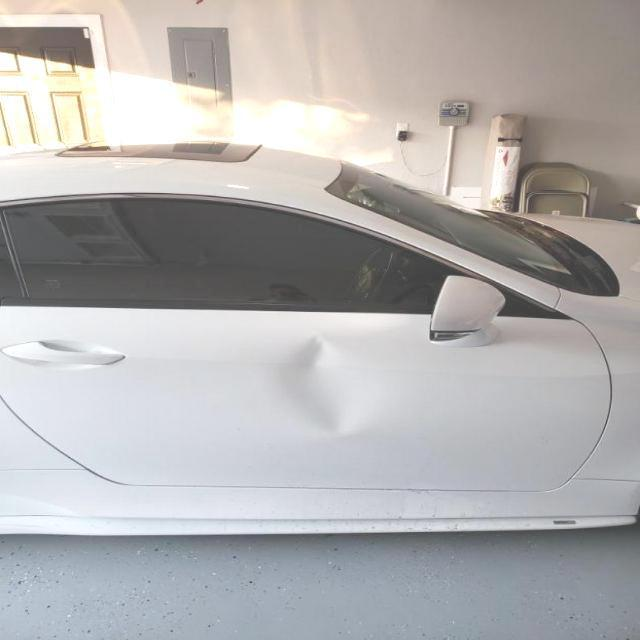minor: (258, 322, 400, 441)
